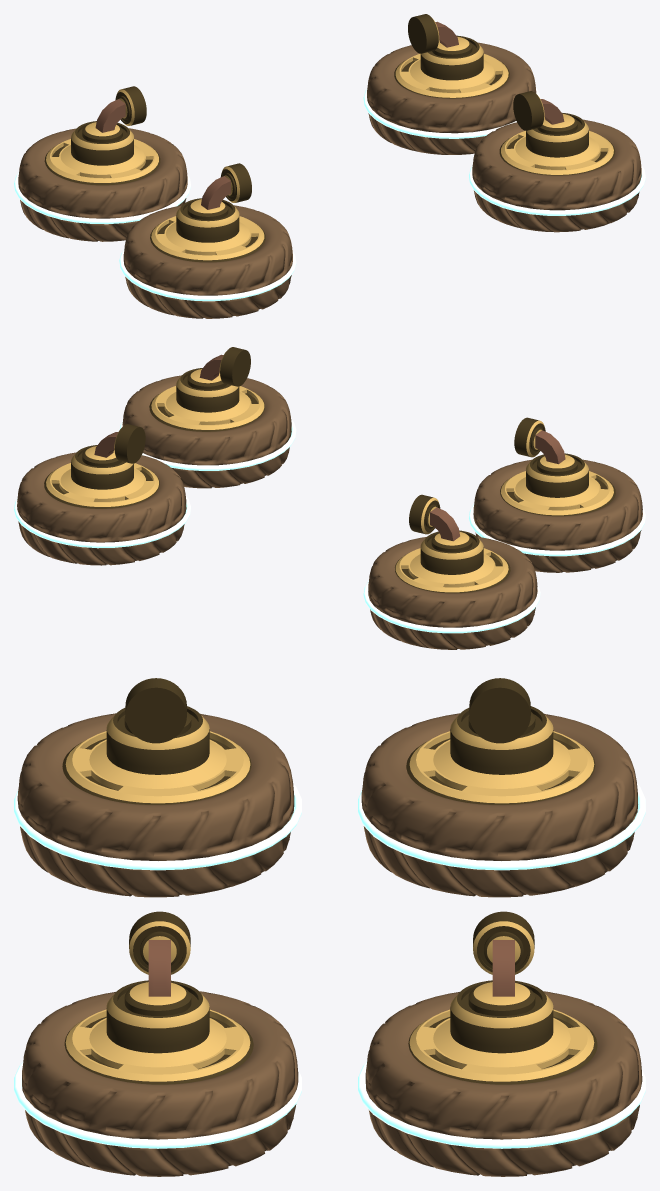
Rendered from Tire_B.fbx.
3 views of the same model, one above another, from view 1: azimuth 30°, elevation 25°; view 2: azimuth 150°, elevation 25°; view 3: azimuth 270°, elevation 25° (orthographic). The views are drawn at different scales.
Visible parts, largest first — view 1: 輪胎內, 輪胎內.003, 輪胎內.001, 輪胎內.002, Tube-PBR, Tube-PBR.006, Tube-PBR.009, Tube-PBR.003, Cylinder-PBR.1, Cylinder-PBR.003, Cylinder-PBR.006, Cylinder-PBR.009 (+14 smaller); view 2: 輪胎內.001, 輪胎內.002, 輪胎內, 輪胎內.003, Tube-PBR.003, Tube-PBR.009, Tube-PBR, Tube-PBR.006, Cylinder-PBR.003, Cylinder-PBR.1, Cylinder-PBR.009, Cylinder-PBR.006 (+14 smaller); view 3: 輪胎內.002, 輪胎內.003, 輪胎內.001, 輪胎內, Tube-PBR, Tube-PBR.003, Tube-PBR.006, Tube-PBR.009, Cylinder-PBR.006, Cylinder-PBR.009, Cylinder-PBR.003, Cylinder-PBR.1 (+18 smaller).
Part boxes in pixels (x1,y1,x2,y2): 輪胎內: [123, 205, 292, 318]; 輪胎內.003: [472, 119, 641, 232]; 輪胎內.001: [18, 128, 187, 241]; 輪胎內.002: [367, 42, 536, 154]; Tube-PBR: [151, 216, 264, 260]; Tube-PBR.006: [395, 53, 508, 97]; Tube-PBR.009: [501, 130, 613, 174]; Tube-PBR.003: [46, 139, 158, 182]; Cylinder-PBR.1: [176, 198, 239, 242]; Cylinder-PBR.003: [71, 121, 133, 165]; Cylinder-PBR.006: [420, 35, 483, 80]; Cylinder-PBR.009: [526, 113, 588, 157]; 輪胎內.001: [368, 536, 537, 649]; 輪胎內.002: [17, 452, 186, 565]; 輪胎內: [473, 459, 642, 572]; 輪胎內.003: [122, 375, 291, 488]; Tube-PBR.003: [395, 548, 508, 592]; Tube-PBR.009: [151, 386, 264, 429]; Tube-PBR: [501, 471, 613, 515]; Tube-PBR.006: [46, 463, 158, 506]; Cylinder-PBR.003: [420, 530, 483, 574]; Cylinder-PBR.1: [526, 453, 588, 497]; Cylinder-PBR.009: [176, 368, 239, 412]; Cylinder-PBR.006: [71, 445, 133, 489]; 輪胎內.002: [365, 991, 642, 1176]; 輪胎內.003: [22, 991, 298, 1176]; 輪胎內.001: [361, 713, 637, 897]; 輪胎內: [17, 713, 294, 897]; Tube-PBR: [65, 731, 250, 803]; Tube-PBR.003: [409, 731, 594, 803]; Tube-PBR.006: [409, 1009, 594, 1081]; Tube-PBR.009: [65, 1009, 250, 1081]; Cylinder-PBR.006: [450, 980, 553, 1053]; Cylinder-PBR.009: [106, 980, 209, 1053]; Cylinder-PBR.003: [450, 706, 553, 774]; Cylinder-PBR.1: [106, 706, 209, 774].
Size of the model in its own units: 206304 by 44656 by 137521.
